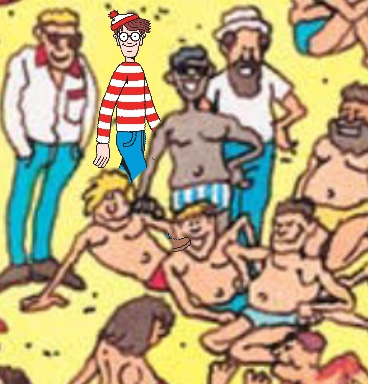Waldo: (94, 9, 161, 183)
